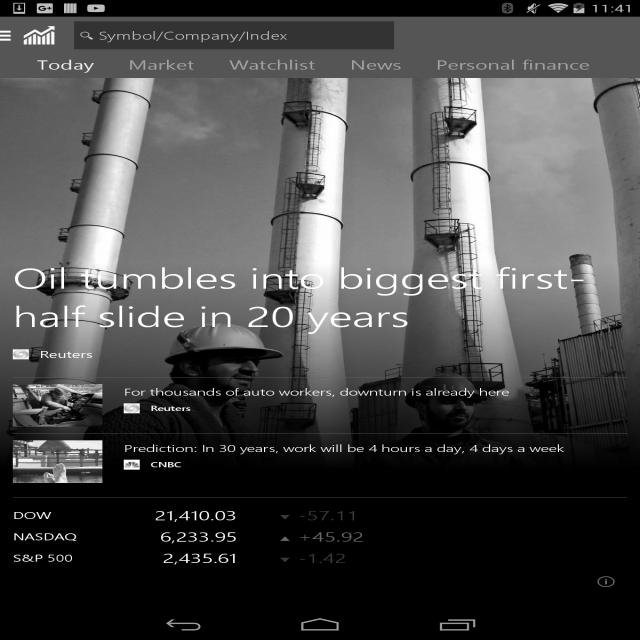EditText: (74, 22, 394, 49)
ImageView: (0, 78, 640, 608), (13, 384, 102, 427), (13, 440, 102, 483), (14, 19, 64, 52), (0, 30, 17, 41), (13, 350, 29, 360), (124, 404, 140, 414), (124, 460, 140, 470)
TextView: (13, 256, 627, 346), (124, 440, 564, 456), (124, 384, 509, 400), (425, 54, 613, 78), (218, 54, 339, 78), (117, 54, 218, 78), (130, 504, 237, 526), (298, 547, 405, 569), (298, 505, 405, 526), (130, 526, 237, 547), (298, 526, 405, 547), (26, 54, 117, 78), (130, 548, 237, 568), (339, 54, 425, 78), (13, 508, 119, 524), (13, 528, 119, 544), (13, 550, 119, 566), (585, 569, 627, 595), (39, 347, 93, 362), (150, 402, 202, 414), (150, 458, 192, 471), (280, 514, 290, 521), (280, 535, 290, 542), (280, 557, 290, 563)
